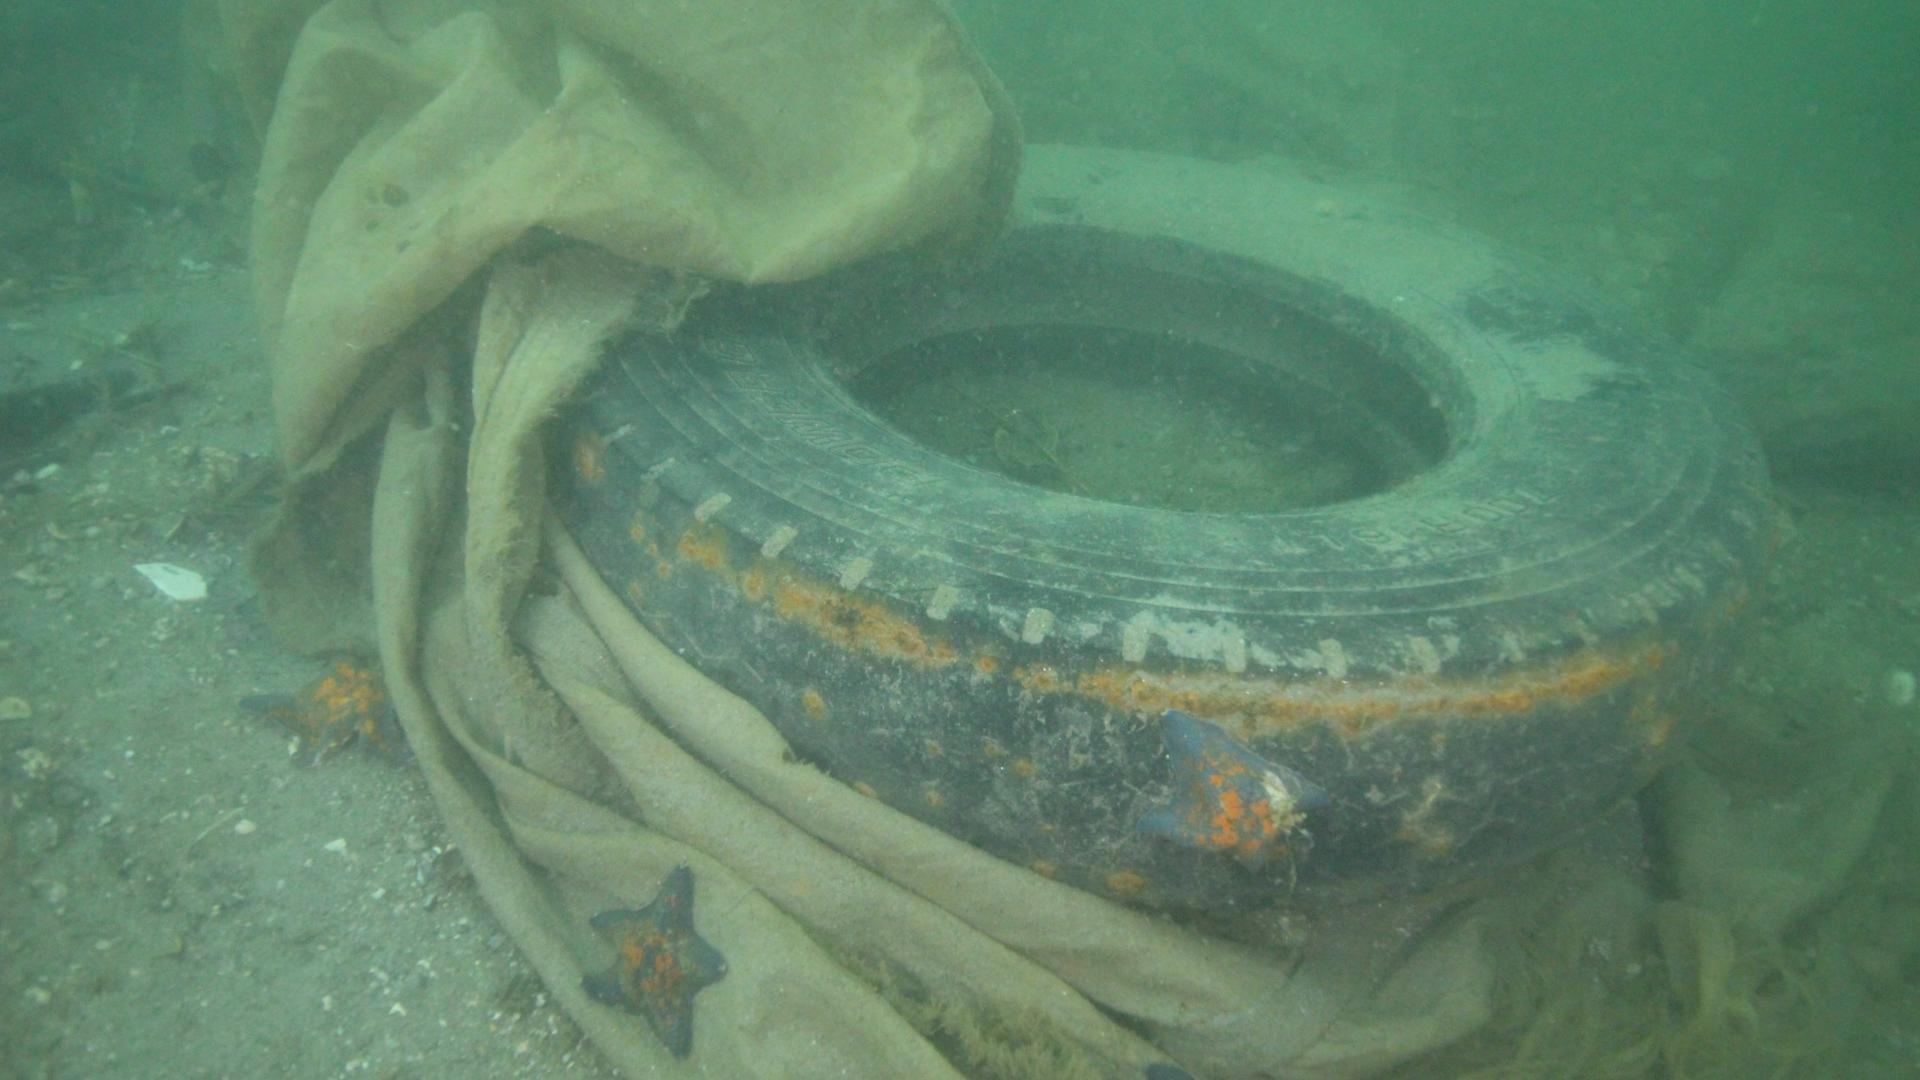tire: (562, 140, 1784, 928)
